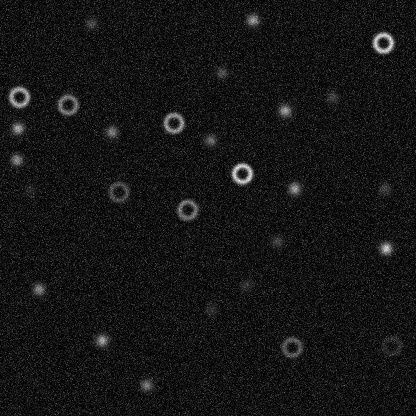Ring: (230, 161, 254, 185), (279, 335, 303, 359), (161, 110, 185, 134), (371, 30, 395, 54), (379, 333, 403, 357), (7, 84, 31, 108), (55, 92, 79, 116), (106, 179, 130, 203), (175, 197, 199, 221)
Spot: (83, 15, 99, 31), (202, 301, 218, 317), (30, 281, 46, 297), (93, 332, 109, 348), (376, 180, 392, 196), (103, 123, 119, 139), (21, 182, 37, 198), (276, 102, 292, 118), (138, 376, 154, 392), (8, 151, 24, 167), (377, 240, 393, 256), (244, 11, 260, 27), (202, 132, 218, 148), (324, 89, 340, 105), (213, 64, 229, 80), (269, 233, 285, 249), (286, 180, 302, 196), (9, 120, 25, 136), (237, 277, 253, 293)
